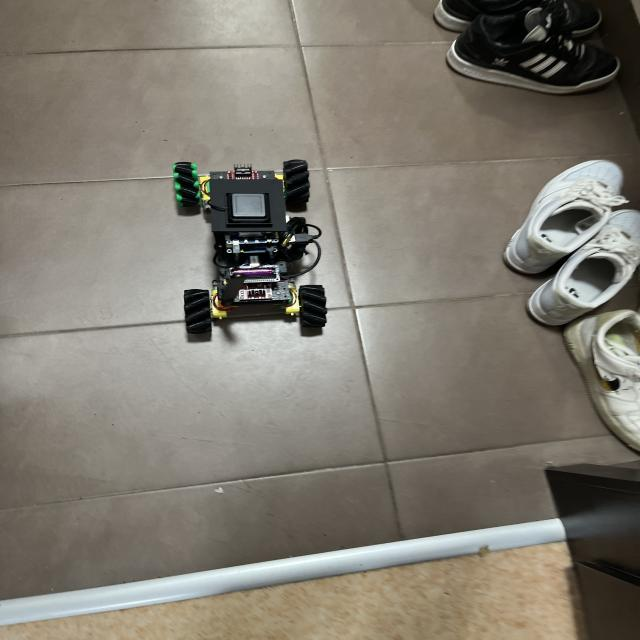robot: (174, 160, 327, 333)
